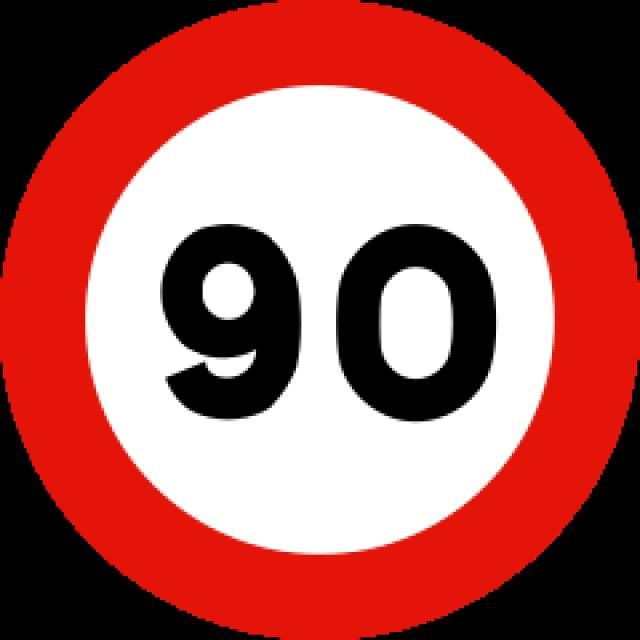Speed Limit -90-: (162, 219, 500, 423)
